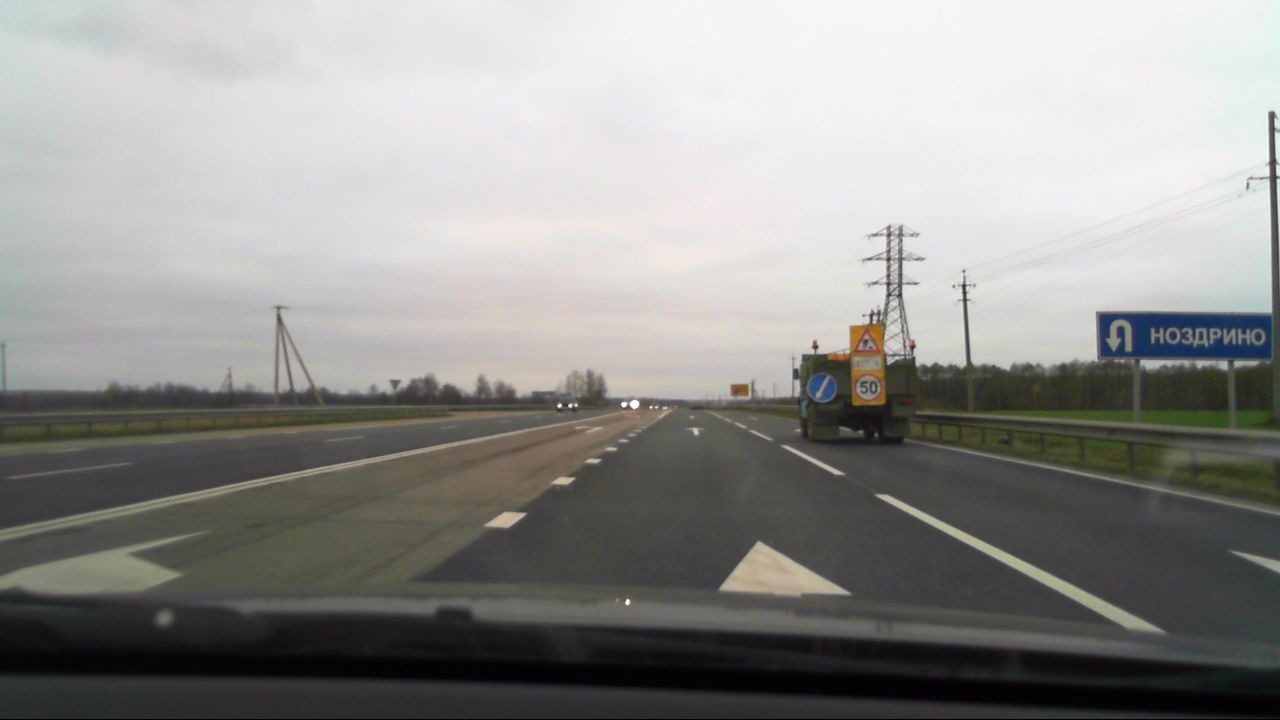U-turn: (1099, 313, 1141, 357)
